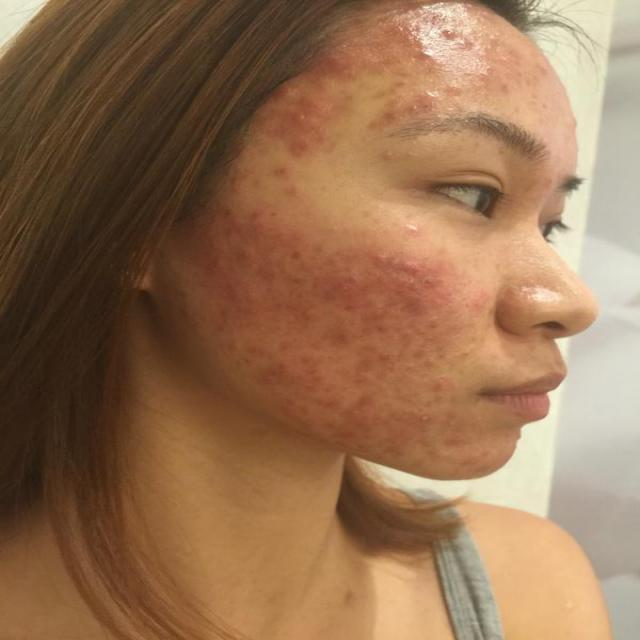Acne: (246, 314, 447, 436), (216, 218, 366, 314), (258, 53, 337, 149), (394, 16, 472, 95), (369, 247, 436, 322), (368, 96, 450, 135), (264, 166, 308, 200), (517, 42, 556, 80), (462, 452, 496, 478), (407, 215, 429, 242), (381, 148, 406, 168)
